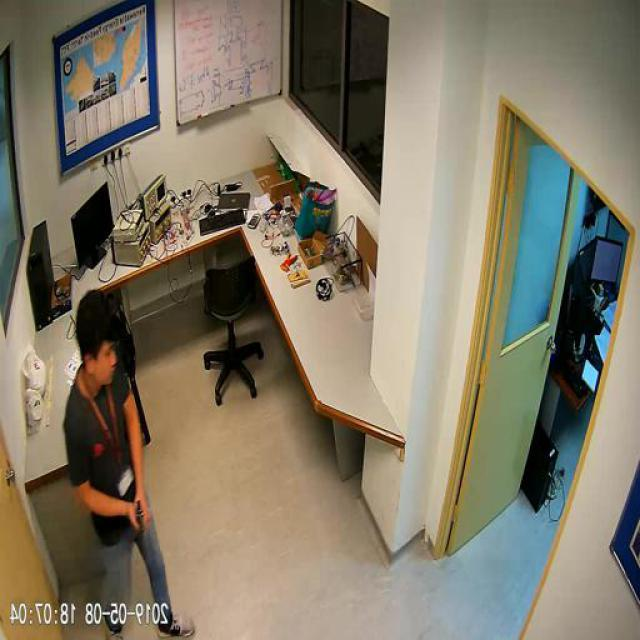Gun: (136, 496, 154, 569)
